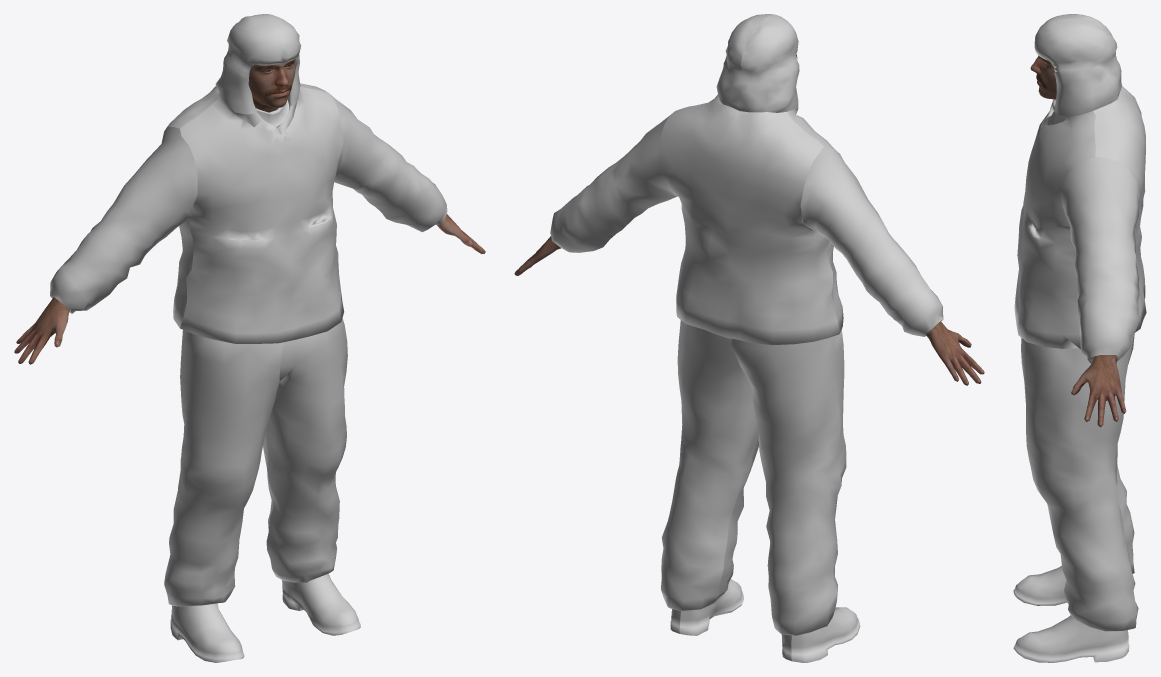
File: sniper.fbx
3 views of the same model, side by side, from view 1: azimuth 30°, elevation 25°; view 2: azimuth 150°, elevation 25°; view 3: azimuth 270°, elevation 25° (orthographic).
Parts seen in each view (by area): view 1: lib_rus_sniper, lib_rus_sniper.001; view 2: lib_rus_sniper, lib_rus_sniper.001; view 3: lib_rus_sniper, lib_rus_sniper.001.
Boxes of the visible parts, x1,y1,x2,y2 form: lib_rus_sniper: [50, 14, 447, 662]; lib_rus_sniper.001: [14, 59, 485, 364]; lib_rus_sniper: [550, 14, 943, 662]; lib_rus_sniper.001: [514, 236, 984, 385]; lib_rus_sniper: [1013, 14, 1146, 662]; lib_rus_sniper.001: [1030, 55, 1126, 427].
Size of the model in its own units: 174 by 219 by 43.47.
